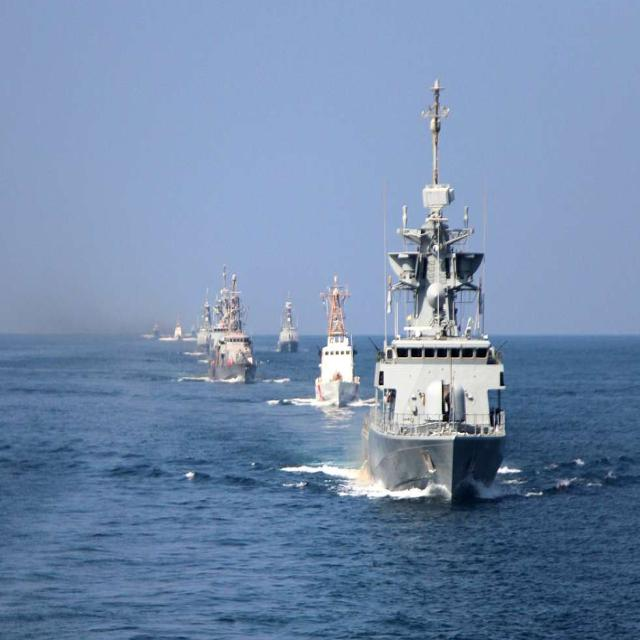navalvessels: (358, 71, 510, 502), (310, 254, 367, 414), (202, 274, 265, 387), (278, 289, 308, 364)
